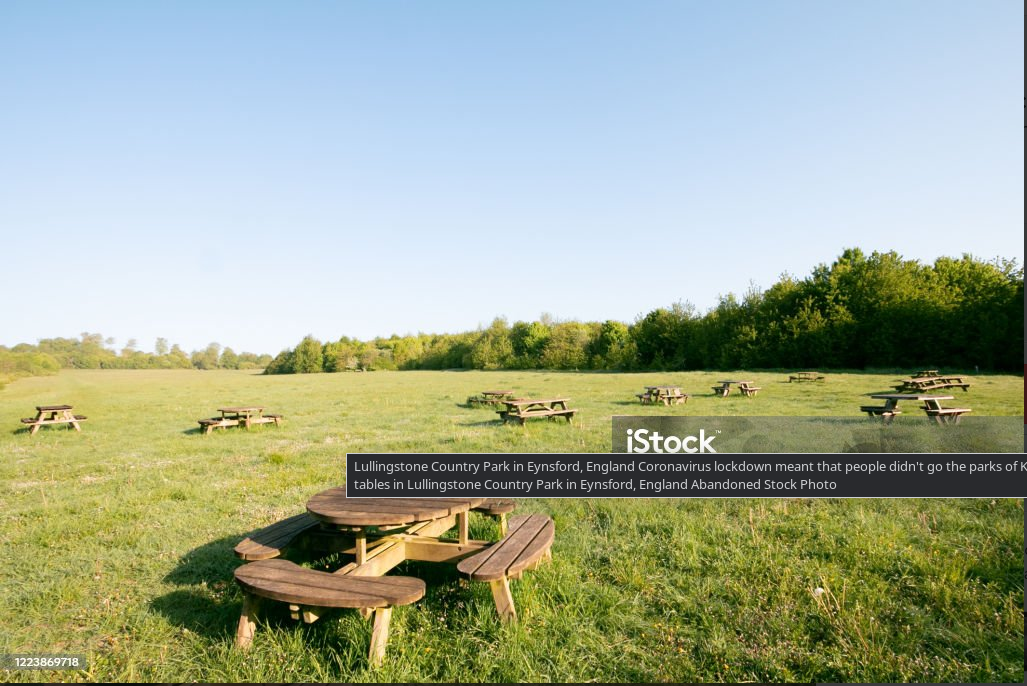obstacle: (235, 481, 562, 641), (857, 388, 969, 434), (195, 404, 293, 441), (488, 393, 577, 429), (16, 397, 93, 437)
